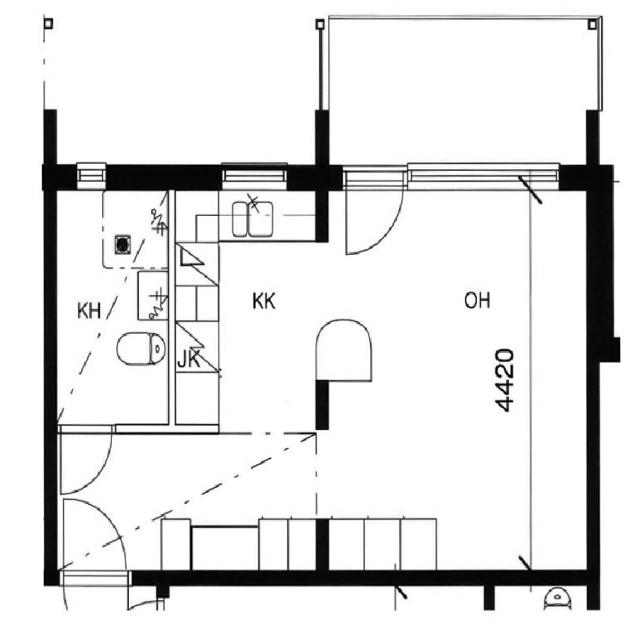door: (63, 494, 127, 585), (346, 165, 402, 257), (60, 424, 111, 494)
